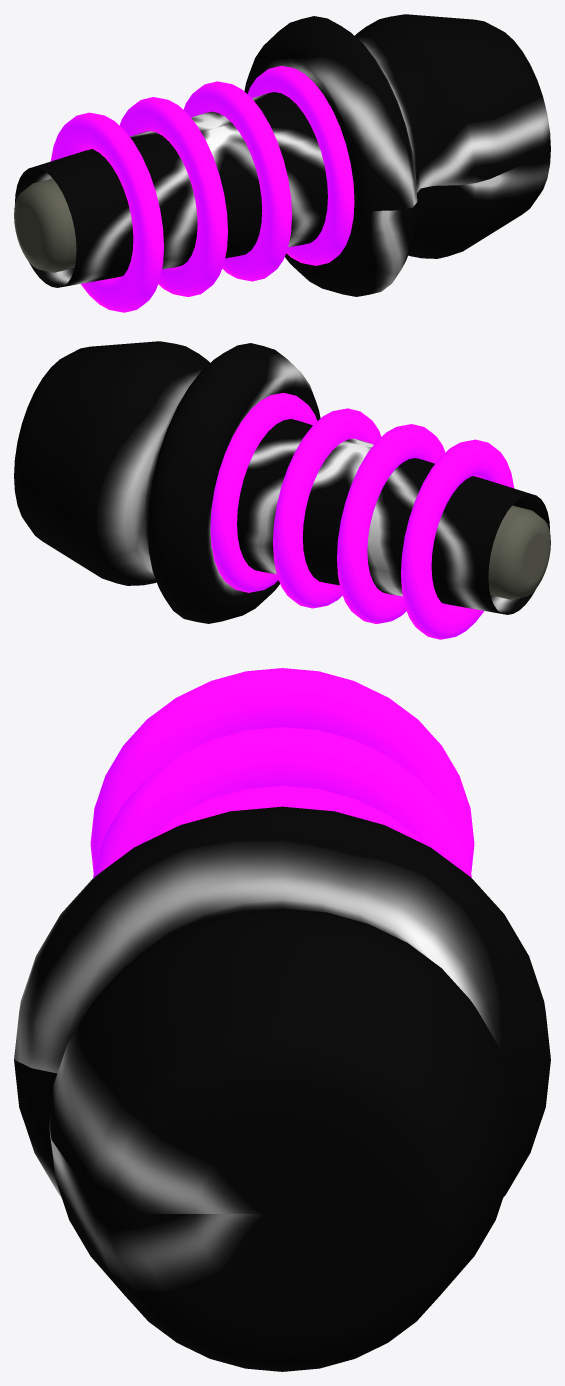
The model's file is StarCharger.fbx.
The picture shows the model from 3 angles, top to bottom: view 1: azimuth 30°, elevation 25°; view 2: azimuth 150°, elevation 25°; view 3: azimuth 270°, elevation 25°; orthographic projection. The views are drawn at different scales.
Visible parts, largest first — view 1: StarChargerBody, StarChargerLED, StarChargerFX; view 2: StarChargerBody, StarChargerLED, StarChargerFX; view 3: StarChargerBody, StarChargerLED.
Boxes of the visible parts, bbox=[...] form: StarChargerBody: bbox=[14, 14, 550, 296]; StarChargerLED: bbox=[50, 65, 354, 312]; StarChargerFX: bbox=[15, 92, 327, 287]; StarChargerBody: bbox=[14, 341, 550, 623]; StarChargerLED: bbox=[210, 392, 514, 639]; StarChargerFX: bbox=[237, 419, 549, 614]; StarChargerBody: bbox=[14, 806, 550, 1371]; StarChargerLED: bbox=[90, 668, 474, 877].
Size of the model in its own units: 3000 by 1545 by 1545.
